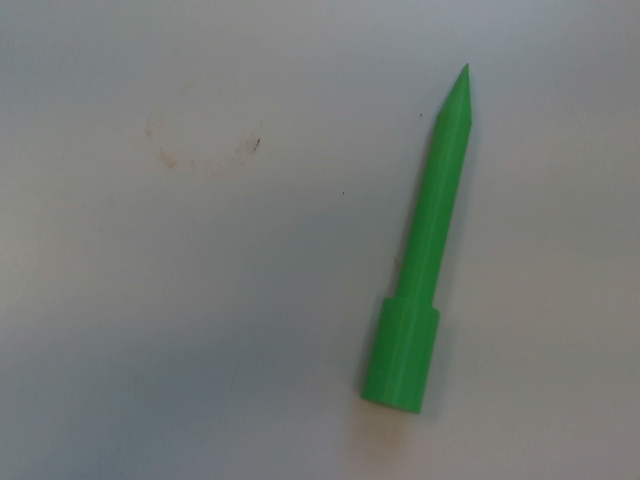Probe: (355, 52, 482, 422)
